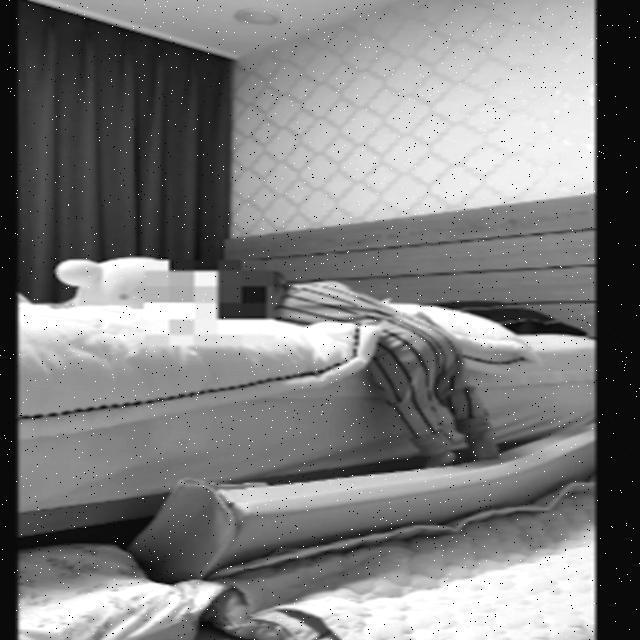child: (227, 259, 500, 473)
